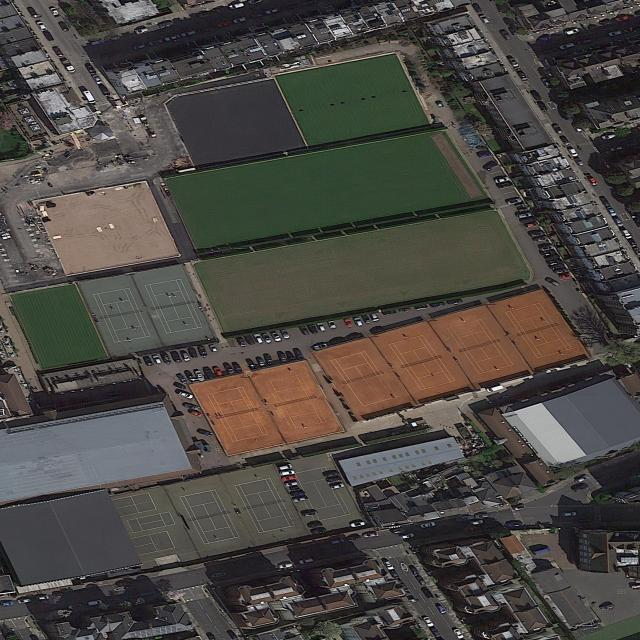large-vehicle: (60, 59, 77, 73)
small-vehicle: (82, 90, 97, 104), (531, 547, 552, 556), (572, 483, 590, 493), (532, 235, 551, 244), (536, 101, 550, 113), (404, 592, 418, 604), (421, 587, 435, 599), (395, 579, 410, 590), (180, 29, 198, 38), (546, 258, 564, 267), (485, 385, 505, 393), (499, 30, 513, 41), (620, 229, 634, 240), (409, 419, 428, 427), (163, 34, 182, 42), (575, 474, 590, 484), (325, 476, 343, 484), (264, 7, 282, 15), (157, 20, 175, 28), (563, 28, 581, 36), (558, 42, 576, 50), (543, 254, 561, 262), (349, 520, 367, 528), (291, 495, 309, 503), (302, 510, 320, 518), (170, 351, 182, 363), (203, 367, 215, 379), (183, 403, 201, 411), (544, 254, 562, 262), (545, 278, 561, 287), (270, 331, 283, 342), (507, 57, 520, 68), (57, 21, 70, 32), (42, 31, 55, 42), (91, 74, 104, 85), (382, 559, 395, 570), (422, 616, 435, 627), (184, 371, 197, 382), (177, 391, 194, 399), (539, 244, 556, 252), (228, 2, 245, 10), (212, 6, 229, 14), (216, 20, 233, 28), (613, 15, 630, 23), (496, 181, 513, 189), (399, 532, 416, 540), (297, 557, 314, 565), (104, 35, 121, 43), (194, 11, 211, 19), (546, 258, 563, 266), (484, 162, 499, 171), (291, 496, 310, 503), (455, 515, 474, 522), (298, 325, 310, 336), (253, 333, 265, 344), (27, 7, 39, 18), (86, 64, 98, 75), (472, 3, 484, 14), (160, 353, 172, 364), (187, 347, 199, 358), (52, 47, 65, 57), (99, 86, 112, 96), (517, 71, 530, 81), (408, 566, 421, 576), (429, 627, 442, 637), (176, 374, 189, 384), (35, 21, 48, 31), (507, 197, 523, 205), (278, 463, 294, 471), (232, 16, 248, 24), (478, 151, 494, 159), (599, 603, 615, 611), (198, 429, 214, 437), (147, 39, 165, 46), (598, 19, 616, 26), (576, 38, 594, 45), (391, 527, 409, 534), (548, 263, 566, 270), (195, 371, 206, 382), (262, 333, 273, 344), (293, 349, 304, 360), (612, 217, 624, 227), (567, 147, 579, 157), (552, 124, 564, 134), (352, 317, 364, 327), (212, 367, 224, 377), (343, 318, 355, 328), (479, 15, 491, 25), (531, 90, 543, 100), (573, 157, 585, 167), (599, 197, 611, 207), (227, 630, 239, 640), (453, 629, 465, 639), (224, 364, 236, 374), (173, 382, 188, 390), (232, 363, 244, 373), (244, 335, 256, 345), (307, 324, 319, 334), (512, 504, 527, 512), (495, 176, 512, 183), (281, 475, 298, 482), (607, 30, 624, 37), (323, 471, 340, 478), (346, 333, 363, 340), (369, 327, 386, 334), (311, 528, 328, 535), (307, 522, 324, 529), (329, 538, 346, 545), (87, 599, 104, 606), (536, 36, 553, 43), (540, 249, 557, 256), (446, 298, 463, 305), (330, 483, 346, 490), (313, 343, 329, 350), (601, 133, 617, 140), (541, 249, 557, 256), (519, 217, 535, 224), (278, 562, 294, 569), (420, 521, 436, 528), (16, 597, 32, 604), (190, 410, 204, 418), (152, 355, 163, 365), (316, 322, 327, 332), (280, 329, 291, 339), (508, 27, 519, 37), (560, 136, 571, 146), (416, 576, 427, 586), (436, 604, 447, 614), (197, 346, 208, 356), (587, 177, 599, 186), (541, 78, 553, 87), (246, 360, 258, 369), (518, 212, 533, 219), (132, 43, 147, 50), (134, 27, 149, 34), (469, 519, 484, 526), (512, 504, 527, 511), (414, 304, 429, 311), (279, 470, 296, 476), (363, 532, 380, 538), (462, 526, 479, 532), (473, 513, 490, 519), (327, 320, 337, 330), (143, 356, 153, 366), (606, 207, 617, 216), (180, 352, 191, 361), (369, 313, 380, 322), (361, 315, 372, 324), (49, 7, 60, 16), (389, 570, 400, 579), (286, 352, 297, 361), (525, 221, 539, 228), (284, 481, 300, 487), (67, 603, 83, 609), (478, 524, 494, 530), (430, 302, 446, 308), (530, 231, 545, 237), (209, 344, 219, 353), (347, 535, 362, 541), (35, 595, 50, 601), (237, 338, 247, 347), (257, 358, 267, 367), (265, 355, 274, 365), (278, 353, 288, 362), (554, 268, 569, 274), (575, 518, 592, 523), (506, 522, 523, 527), (561, 512, 578, 517), (381, 310, 398, 315), (398, 307, 412, 313), (559, 273, 572, 279), (290, 491, 305, 496), (252, 13, 263, 19), (290, 486, 300, 492), (611, 146, 622, 151)
